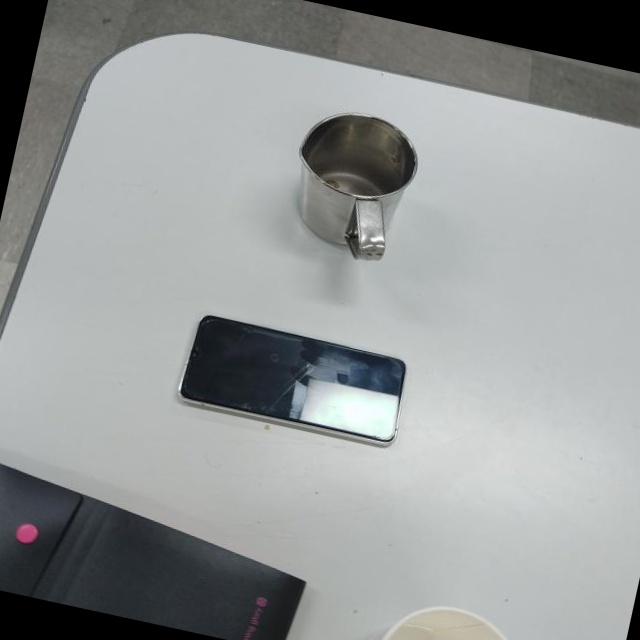cup: (273, 97, 426, 271)
phone: (172, 307, 414, 454)
